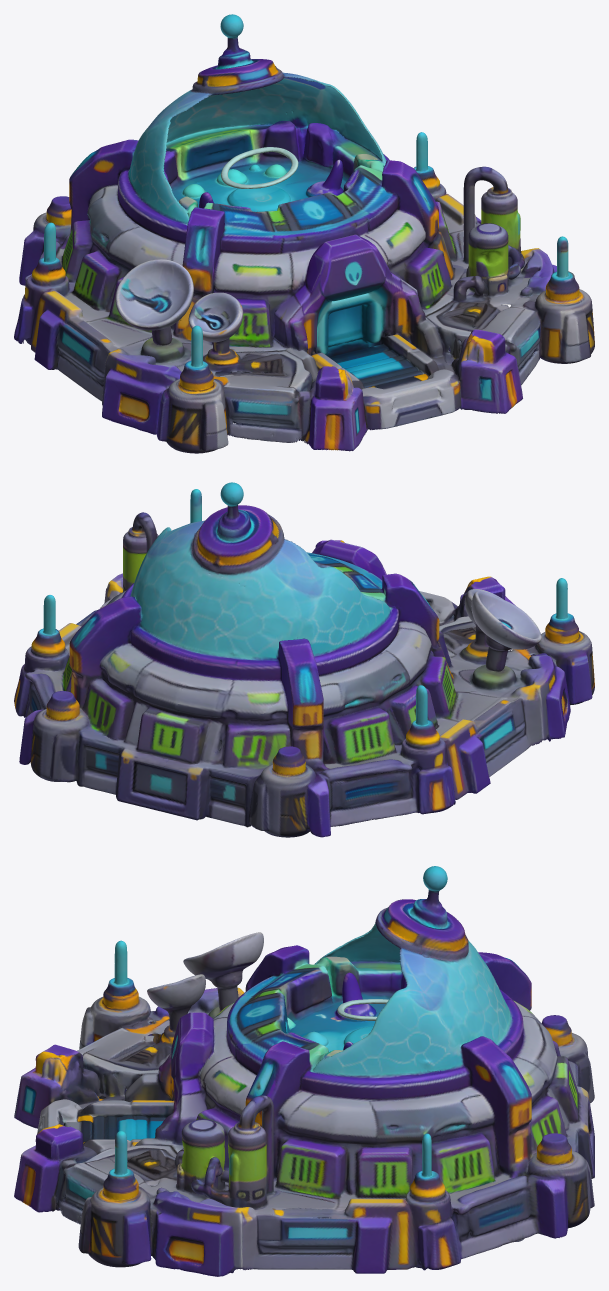
Rendered from tripo_convert_cae021c1-8485-4d8b-ab07-7a41ecea1a35.fbx.
3 views of the same model, one above another, from view 1: azimuth 30°, elevation 25°; view 2: azimuth 150°, elevation 25°; view 3: azimuth 270°, elevation 25° (orthographic). The views are drawn at different scales.
Visible parts, largest first — view 1: tripo_node_cae021c1; view 2: tripo_node_cae021c1; view 3: tripo_node_cae021c1.
Boxes of the visible parts, bbox=[...] form: tripo_node_cae021c1: bbox=[14, 14, 594, 453]; tripo_node_cae021c1: bbox=[14, 482, 594, 837]; tripo_node_cae021c1: bbox=[14, 866, 594, 1276].
Bounding box in the file's own units: 0.9792 × 0.5641 × 1.
1 material, 1 textured.
